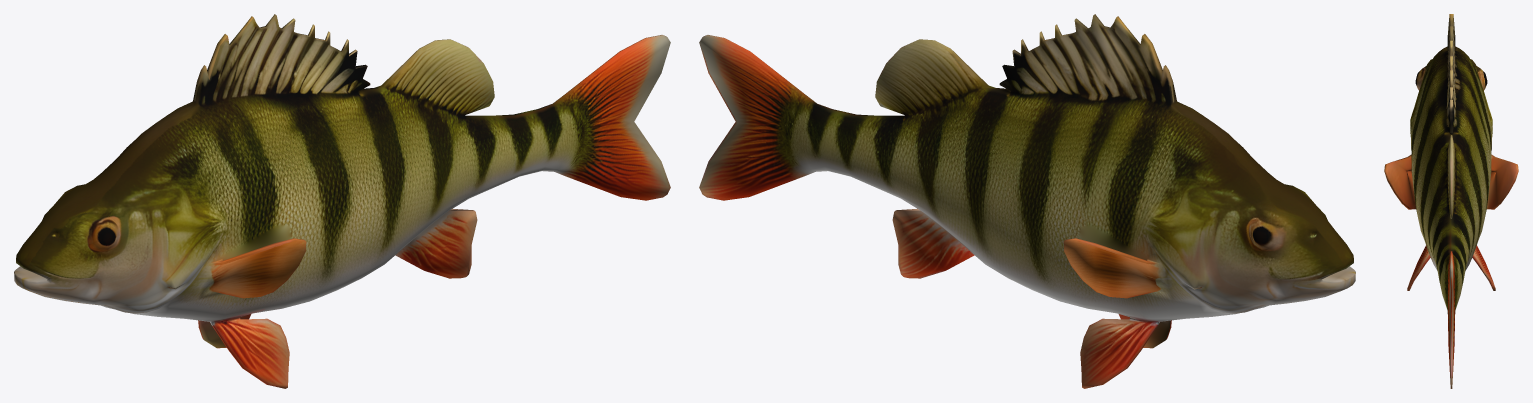
Rendered from european_perch (1).glb.
3 renders of one model, left to right at view 1: azimuth 30°, elevation 25°; view 2: azimuth 150°, elevation 25°; view 3: azimuth 270°, elevation 25°, orthographic. The views are drawn at different scales.
Visible parts, largest first — view 1: texture_pbr_v128; view 2: texture_pbr_v128; view 3: texture_pbr_v128.
Boxes of the visible parts, x1,y1,x2,y2 form: texture_pbr_v128: (14,14,670,388); texture_pbr_v128: (699,14,1355,388); texture_pbr_v128: (1384,14,1518,388).
Bounding box in the file's own units: 1.15 × 0.5953 × 0.2646.
Materials: 1 (1 with a texture image).
